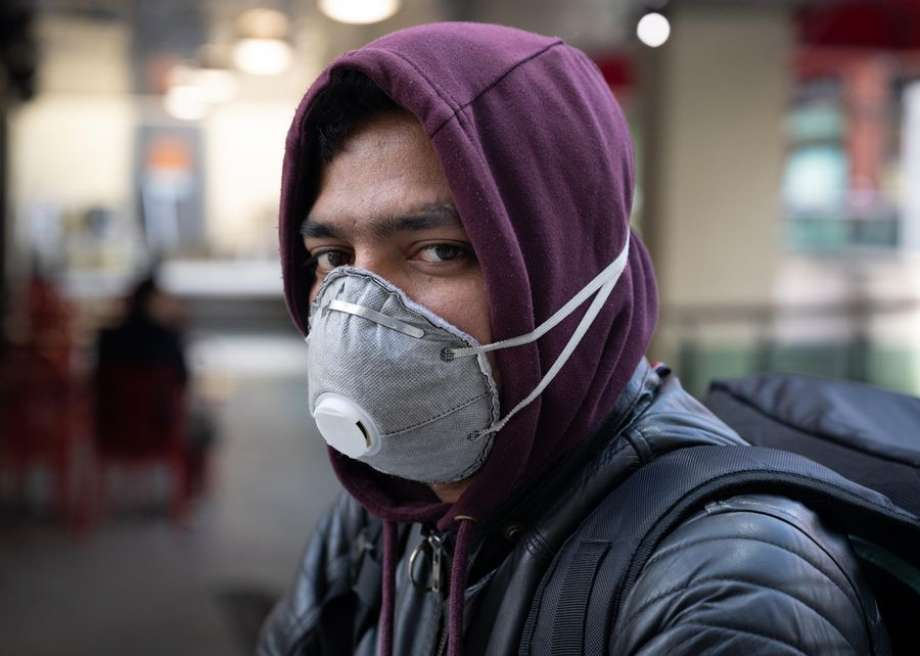n95: (280, 264, 508, 492)
